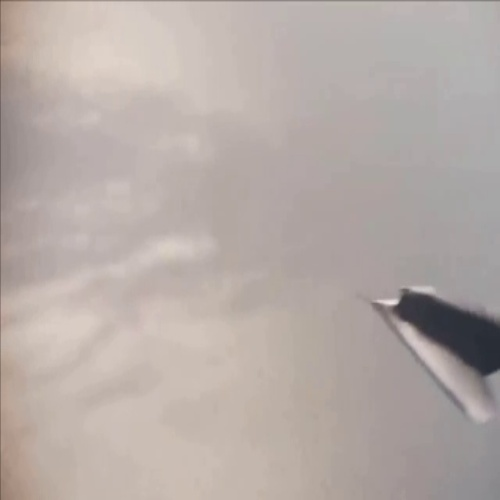uav857: (361, 280, 498, 425)
